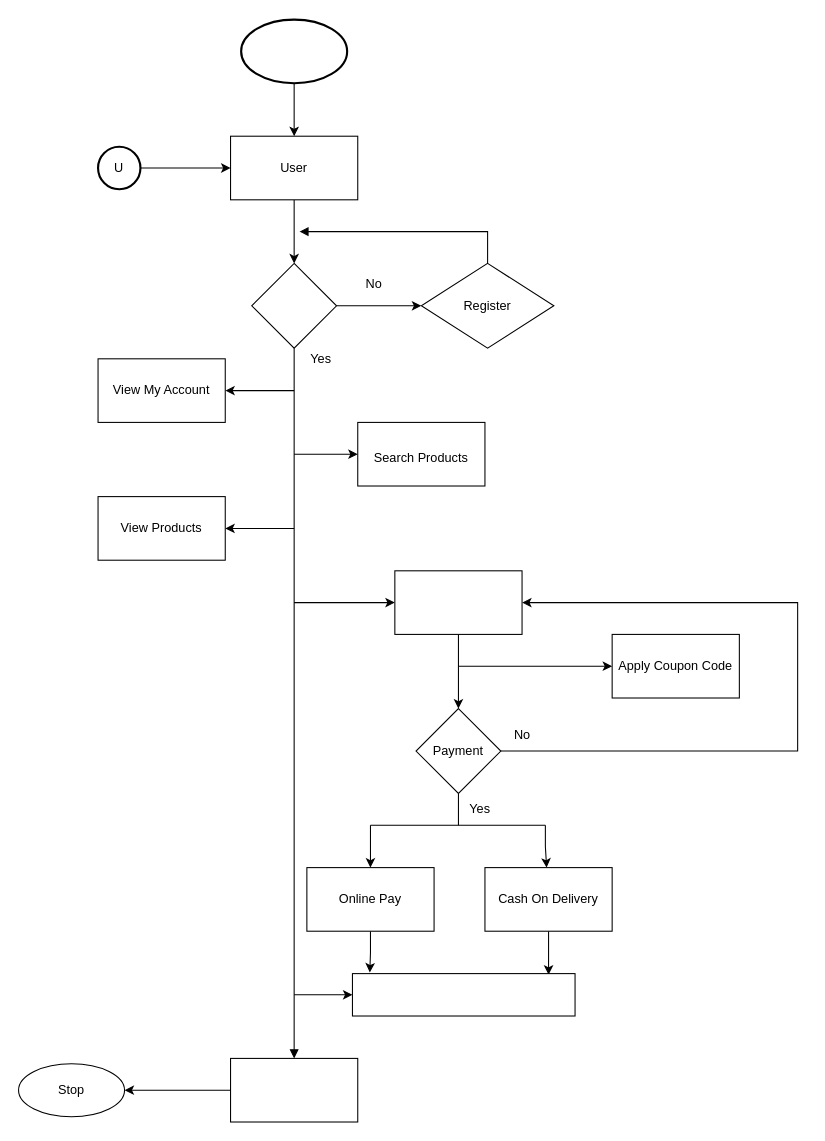
The diagram is 825 pixels wide and 1141 high, and some of its shapes have lost their labels. The shapes that lost their labels are listed below. From the top down, each one's centre as x and y in pixels, then its label:
At [294,51]: "Start".
At [294,305]: "Login".
At [458,602]: "Buy Product and Add to Cart".
At [463,994]: "Ordered Placed".
At [293,1089]: "Logout".
